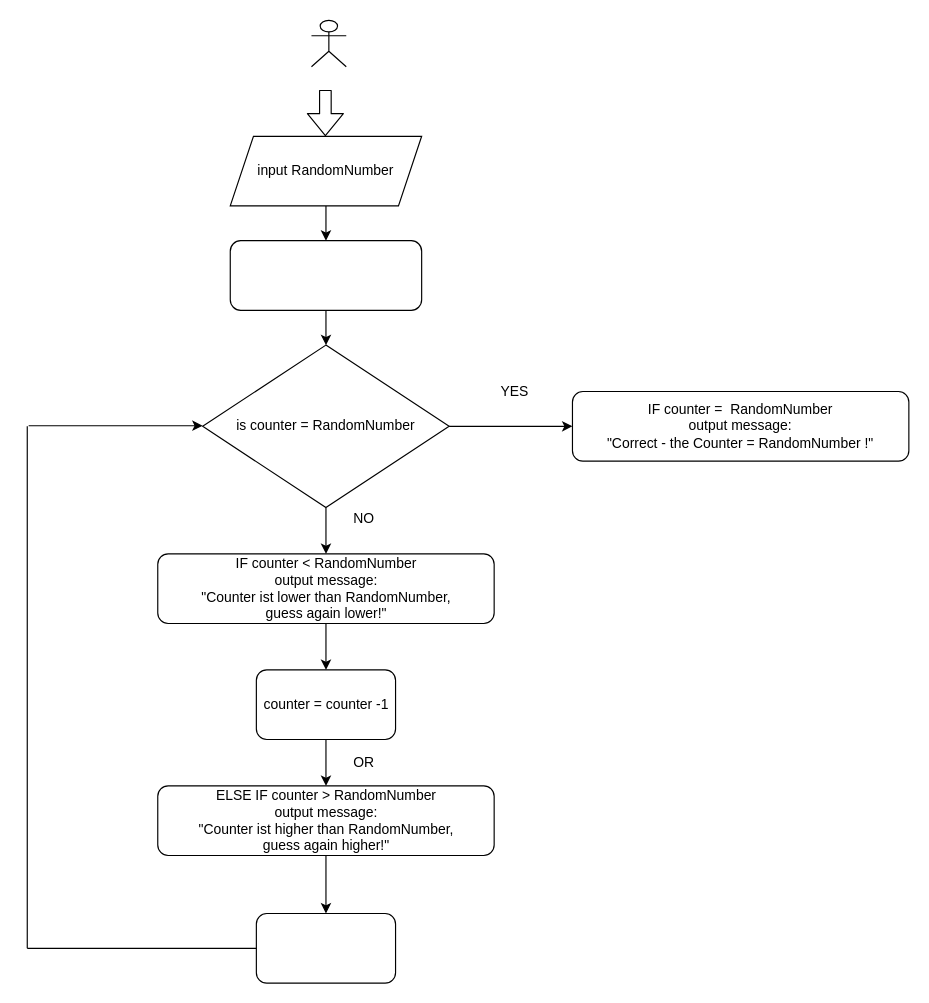
Image size: 929x1003. Some labels were removed from this diagram. The shapes that lost their labels are listed below. From the top down, each one's box as (x1, y1, x2, y2) in pixels, then its label:
(310, 19, 346, 67): Actor
(229, 240, 422, 310): counter = 0
(255, 912, 396, 983): counter = counter +1
